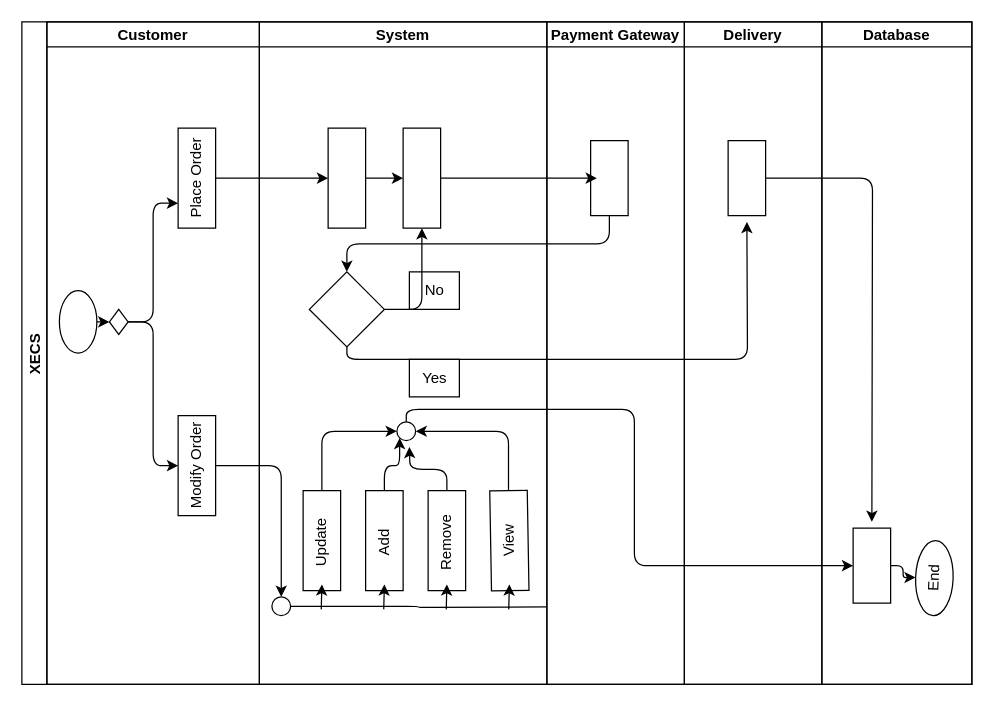
The diagram is 994 pixels wide and 706 high, and some of its shapes have lost their labels. The shapes that lost their labels are listed below. From the top down, each one's box as (x1, y1, x2, y2) in pixels, then its label:
(327, 127, 366, 228): Enter Information
(402, 127, 441, 228): Proced to payment
(589, 139, 628, 216): Pay
(727, 139, 766, 216): Send to delivery
(58, 289, 97, 353): Start
(308, 271, 384, 347): Sucessfull
(852, 527, 891, 603): Store In database
